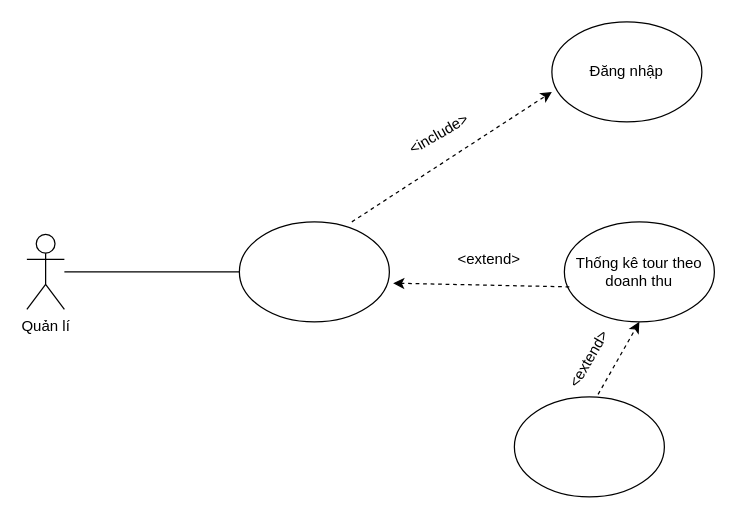
Some shapes in this 736 by 519 pixel diagram are drawn without their labels. Here are the shapes that lost their labels. From the top down, the centre of each, then its label:
At (x=313, y=271): "Xem thống kê".
At (x=588, y=446): "Xem chi tiết liên quan 1 tour".
